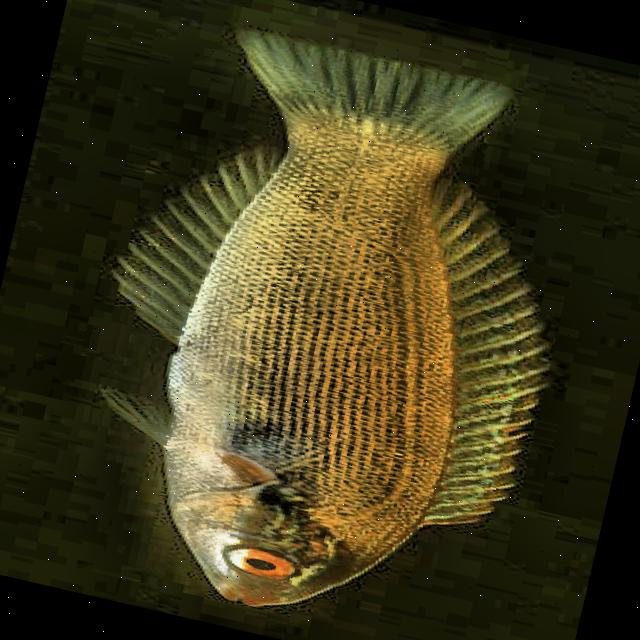fish: (38, 4, 614, 640)
